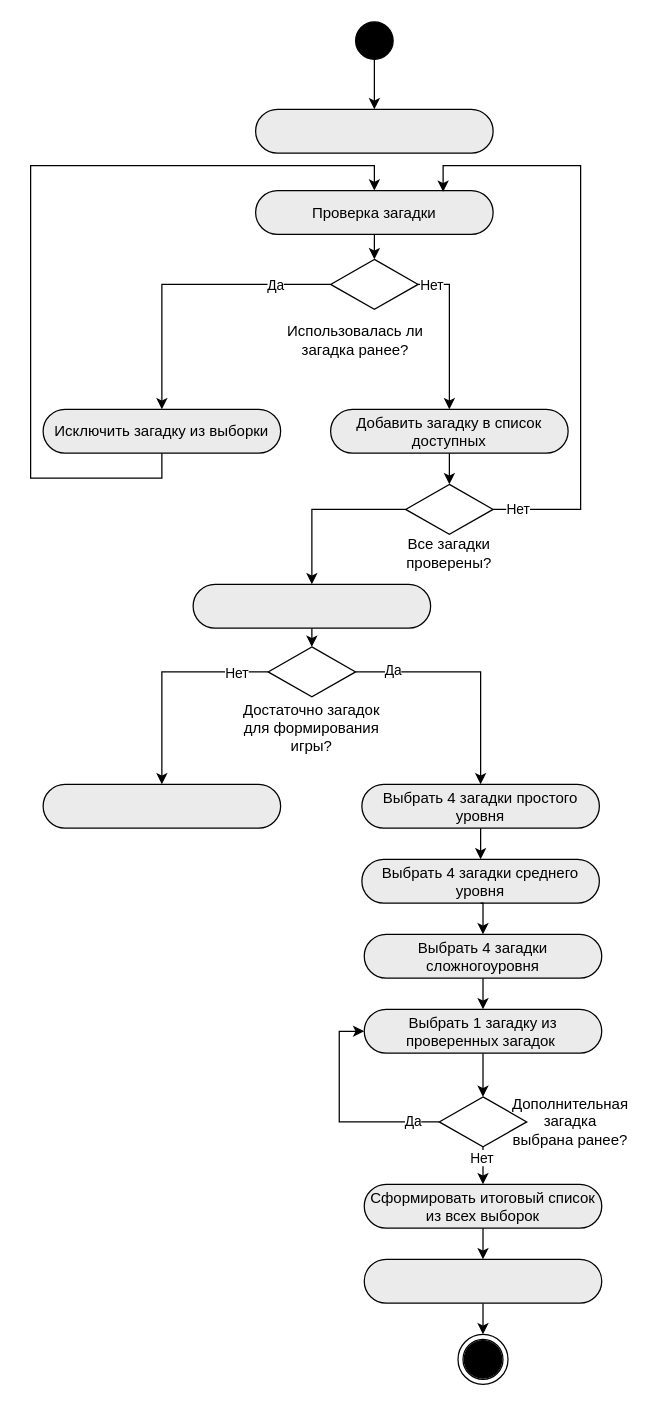
Some shapes in this 668 by 1406 pixel diagram are drawn without their labels. The box of each missing label's shape, as (x1, y1, x2, y2) in pixels:
Получить проверенные и классифицированные загадки: (254, 108, 493, 153)
Сообщить о невозможности сформировать игру: (42, 783, 281, 828)
Сохранить список вопросов для игры: (363, 1258, 602, 1303)
Сформировать проверенную базу загадок: (192, 583, 431, 628)
